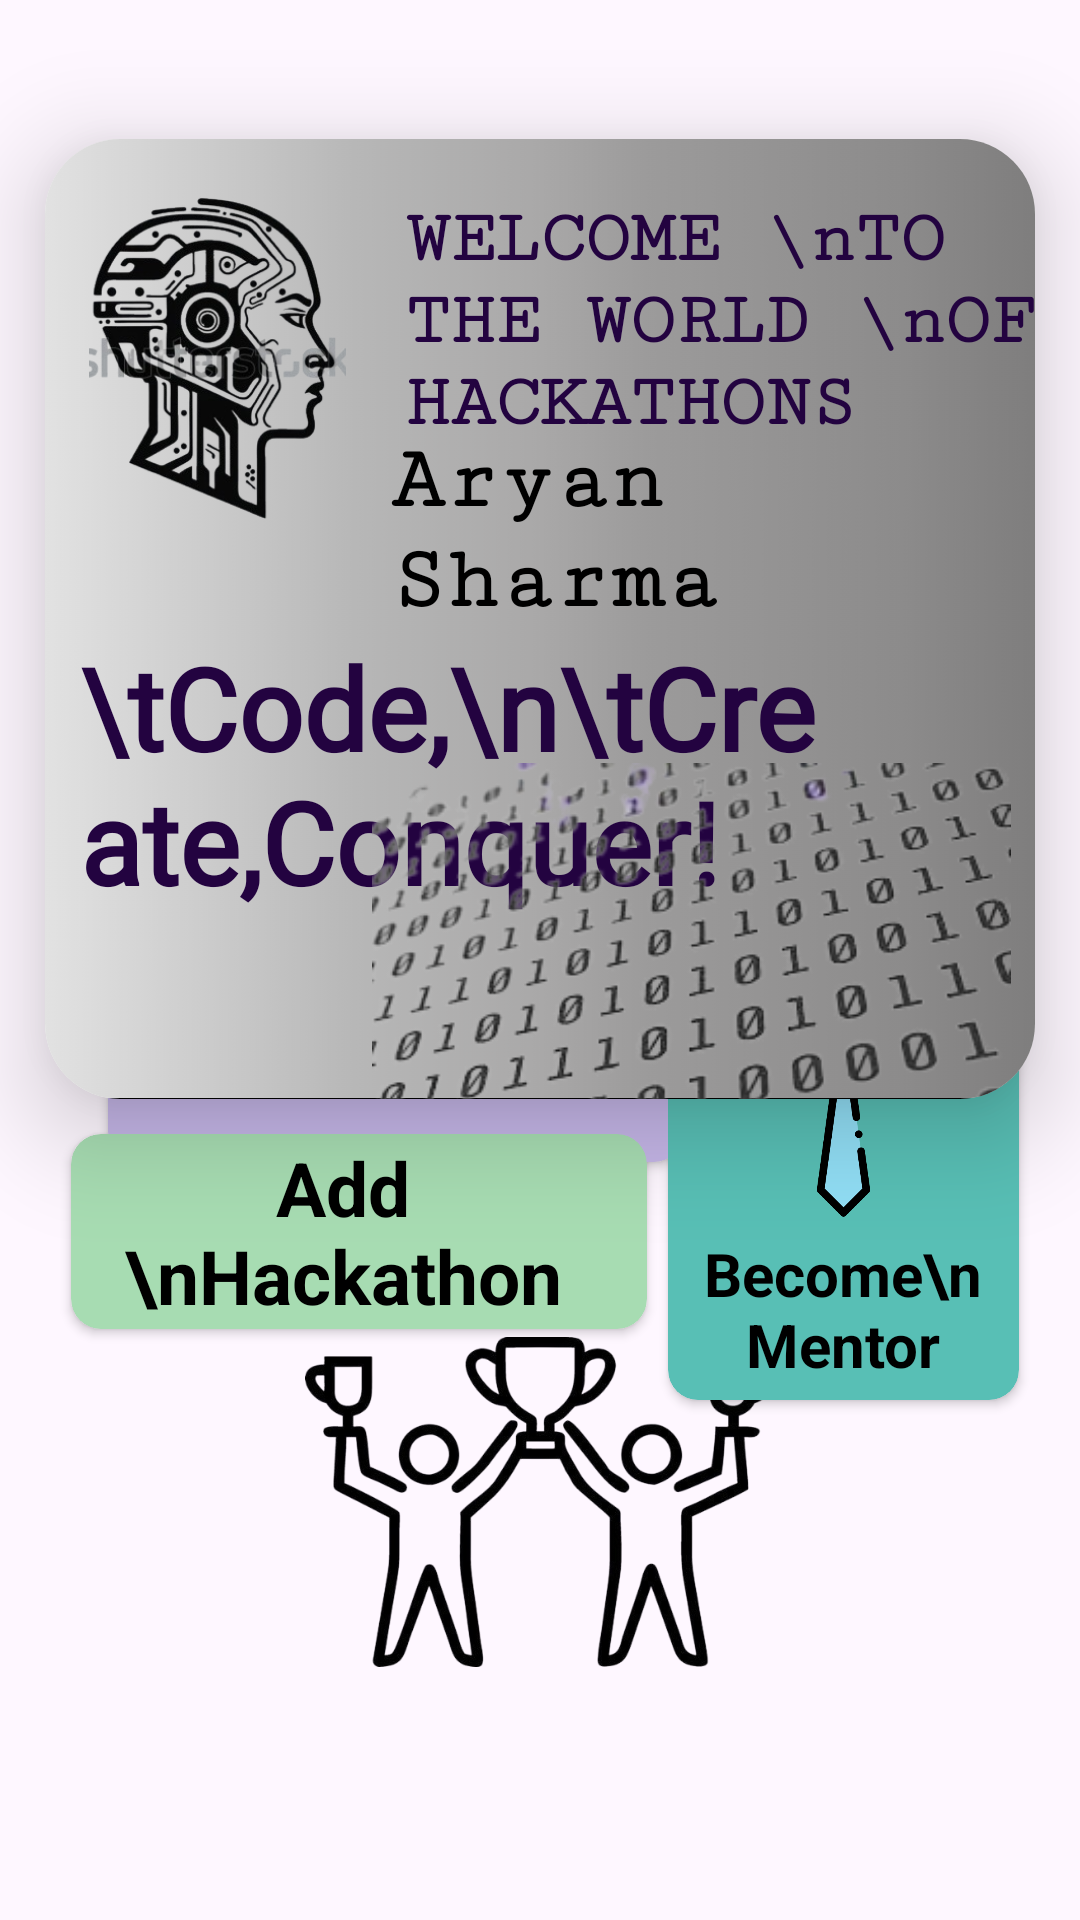

Where to tap for icons on this 1080px x 1920px app screen, as point (x, y):
roboface: point (217, 361)
